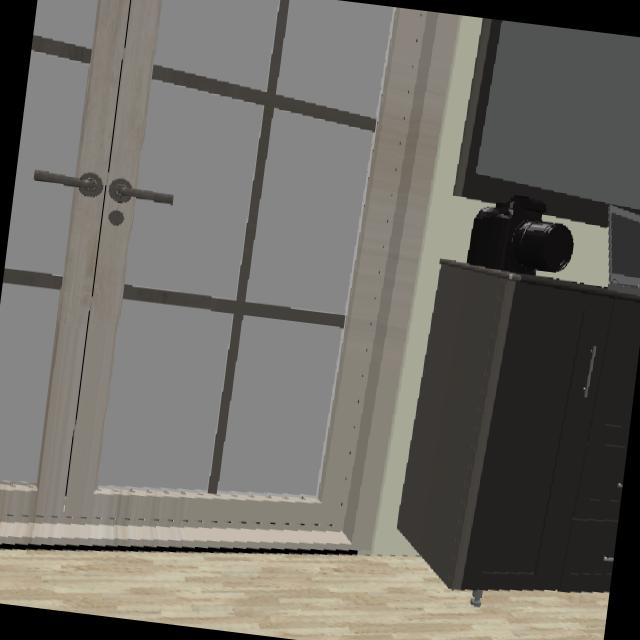cabinet: (394, 259, 640, 592)
laptop: (608, 205, 640, 290)
